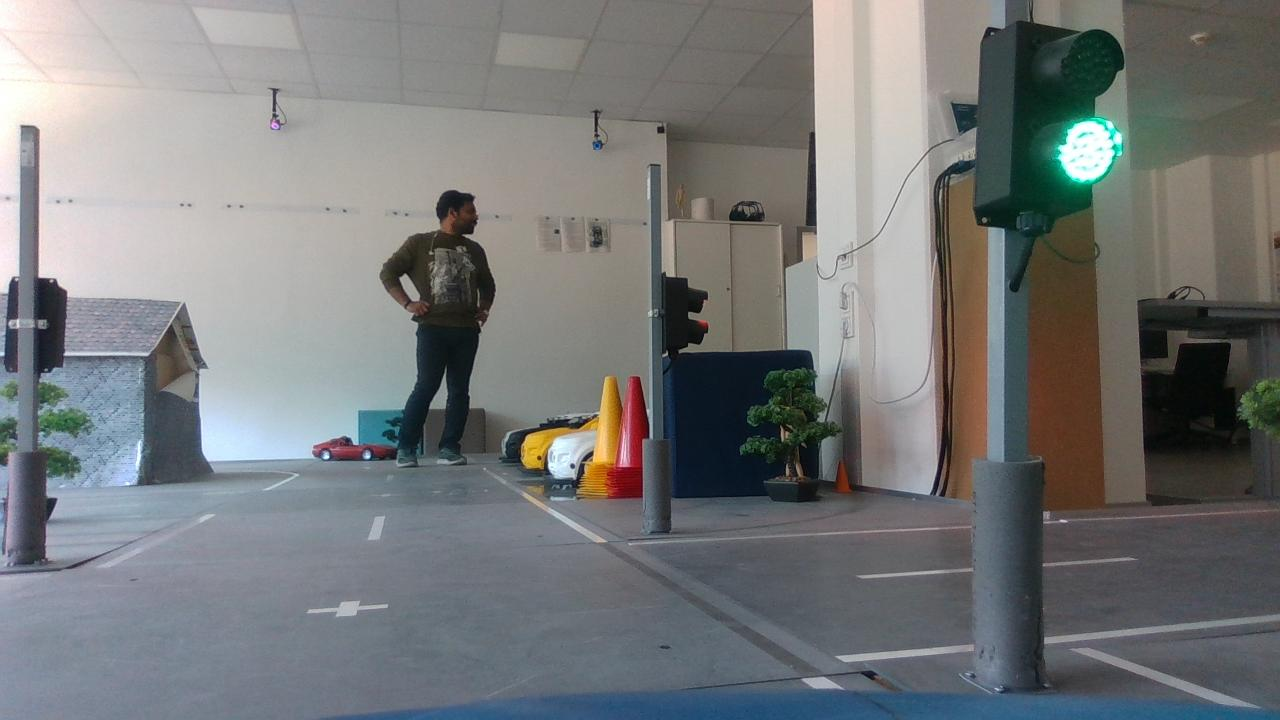traffic_light_green: (956, 11, 1131, 245)
